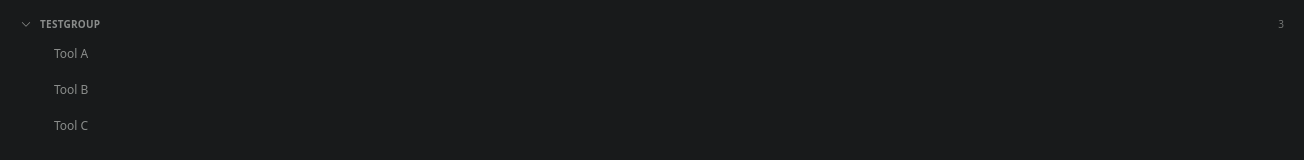
Test: SidebarGroup — group collapse & keyboard nav › expands on ArrowRight when collapsed
Click the button "TestGroup 3": coordinates (70, 24) top-left (12, 13), bottom-right (1292, 35)
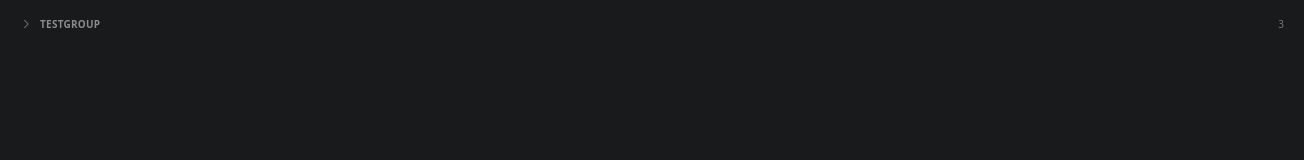
Check: the button "TestGroup 3" is collapsed
Press ArrowRight in the button "TestGroup 3", box top-left (12, 13), bottom-right (1292, 35)
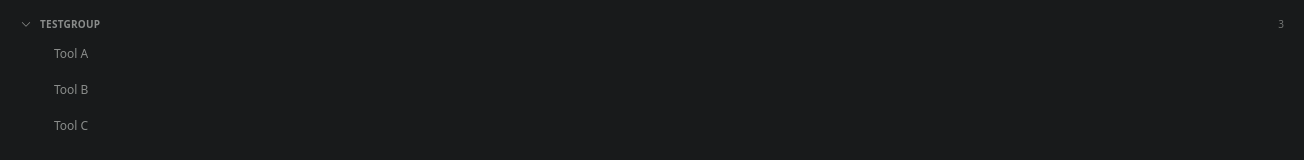
Check: the button "TestGroup 3" is expanded, box top-left (12, 13), bottom-right (1292, 35)
